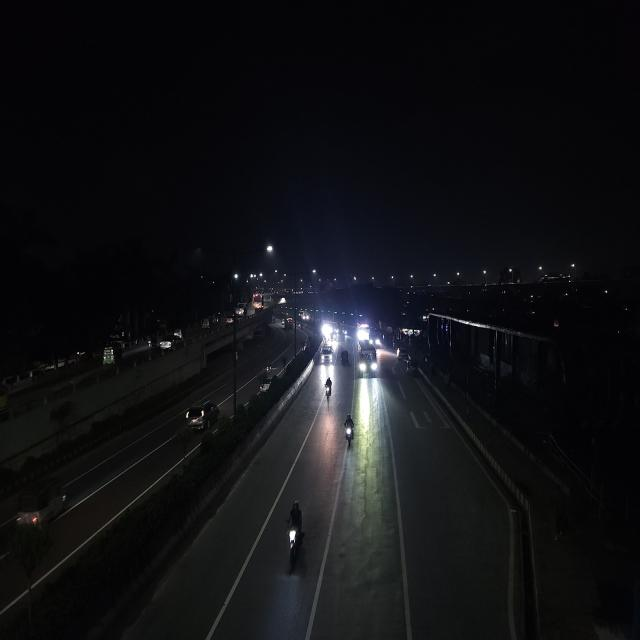bus: (356, 338, 378, 379), (367, 328, 380, 349)
car: (183, 396, 221, 435), (320, 342, 336, 367), (158, 334, 180, 352), (396, 345, 408, 362)
cng: (14, 478, 70, 534), (102, 335, 126, 365), (339, 349, 351, 368), (406, 361, 418, 378), (202, 316, 211, 330), (212, 312, 222, 324)
motorcycle: (280, 497, 309, 573), (341, 413, 356, 450), (321, 374, 335, 402)
pickup_van: (236, 302, 248, 317)
truck: (252, 295, 264, 309)
